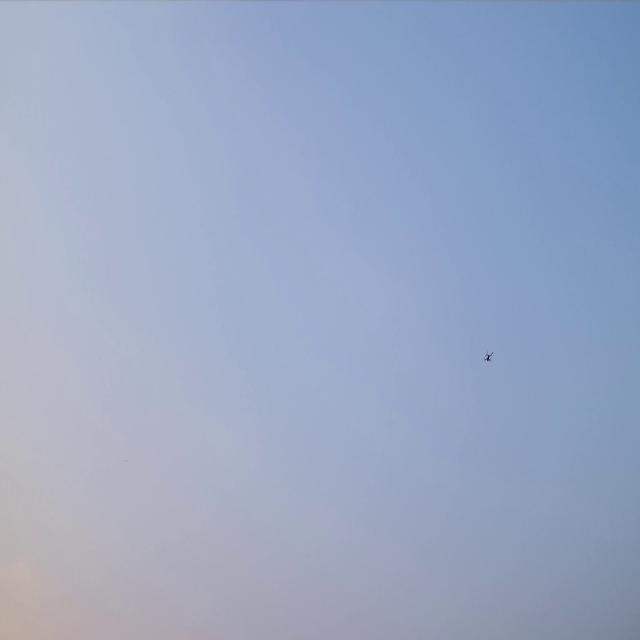UAV: (483, 349, 493, 364)
